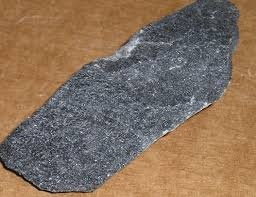obstacle: (0, 1, 238, 191)
